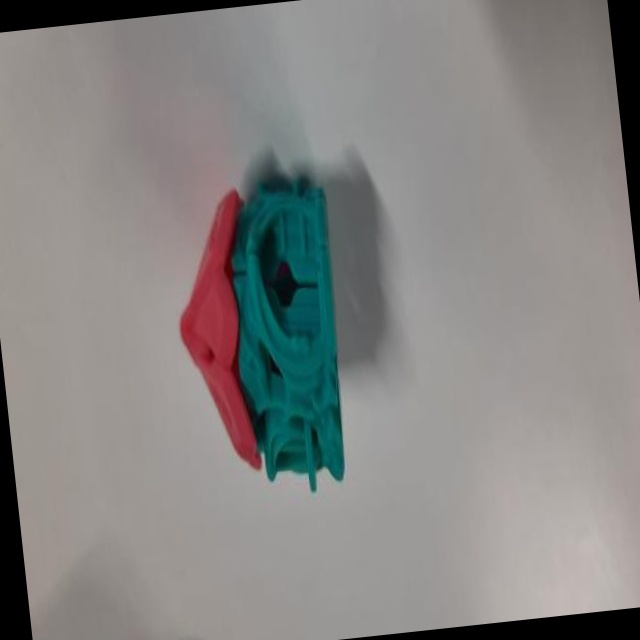House: (156, 155, 369, 521)
